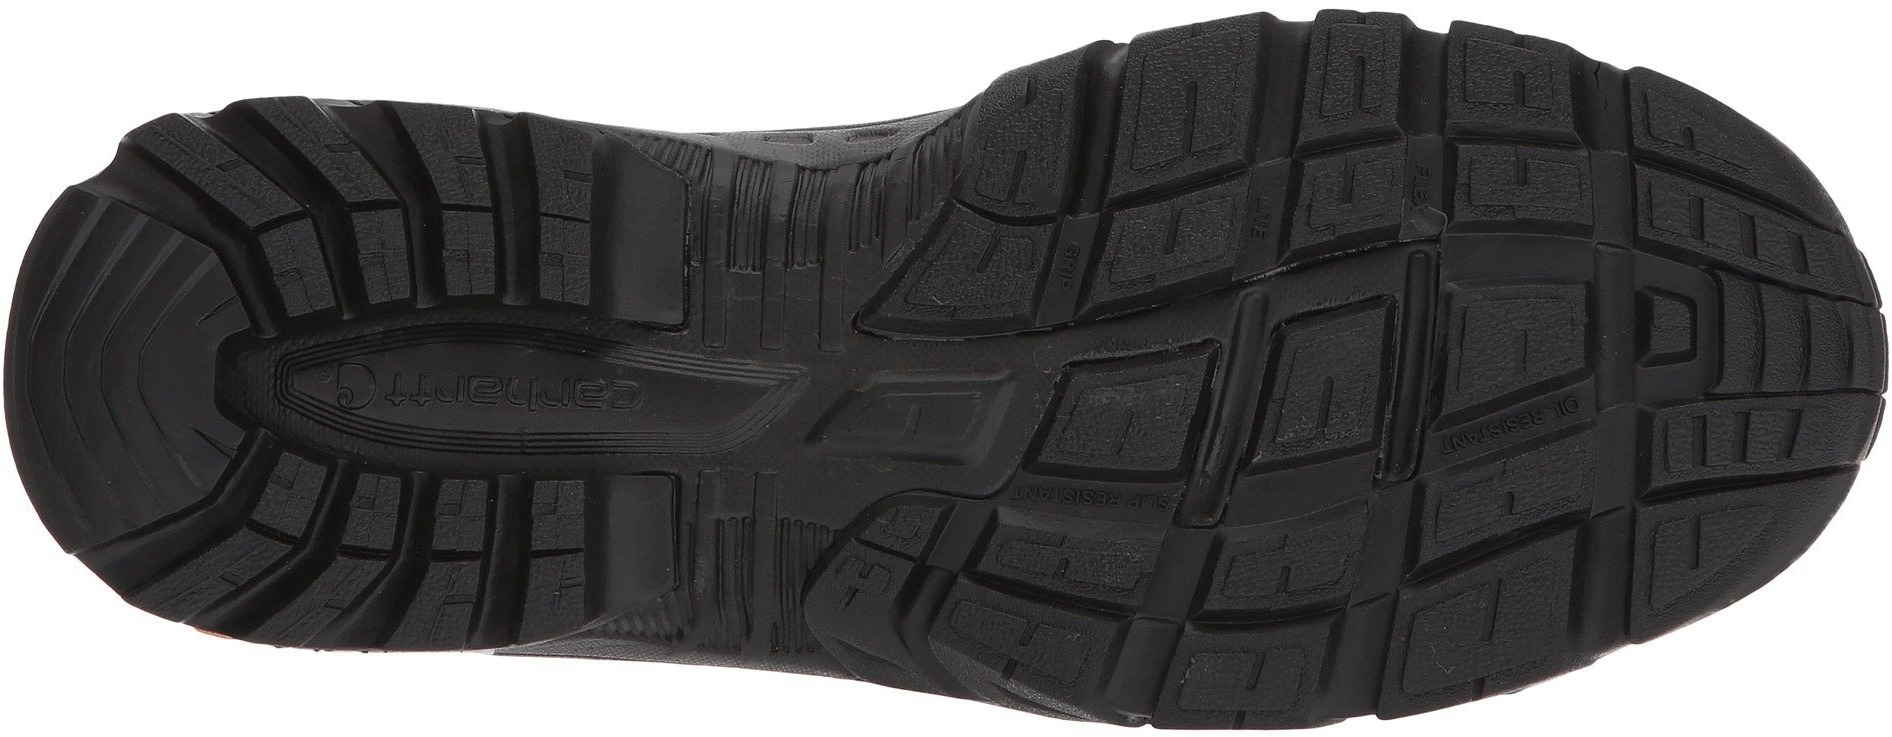chevron: (16, 281, 206, 466)
exclude: (490, 16, 1015, 165)
line: (682, 164, 870, 347)
quad: (974, 321, 1396, 683), (1092, 22, 1414, 305), (1363, 423, 1621, 659), (1423, 41, 1654, 276), (378, 113, 602, 322), (426, 473, 591, 630), (1725, 274, 1849, 394)
text: (549, 356, 640, 433), (391, 350, 468, 428), (465, 356, 545, 426)
